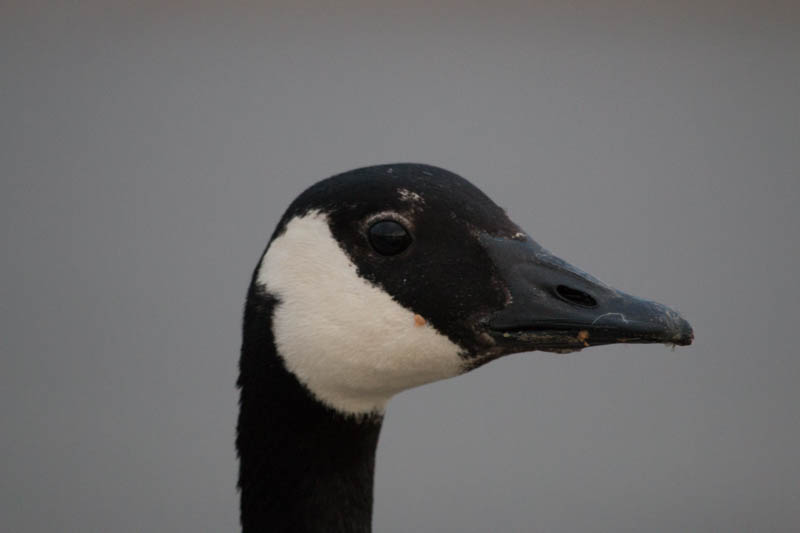goose-head: (240, 163, 694, 422)
